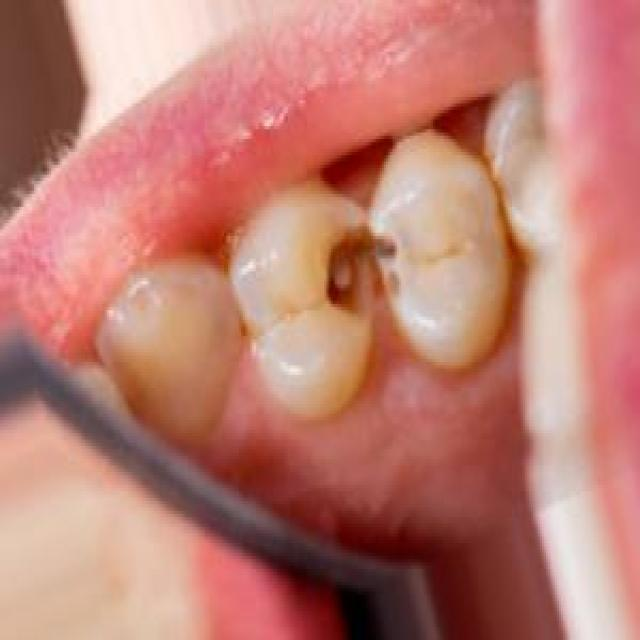caries: (306, 198, 412, 344)
